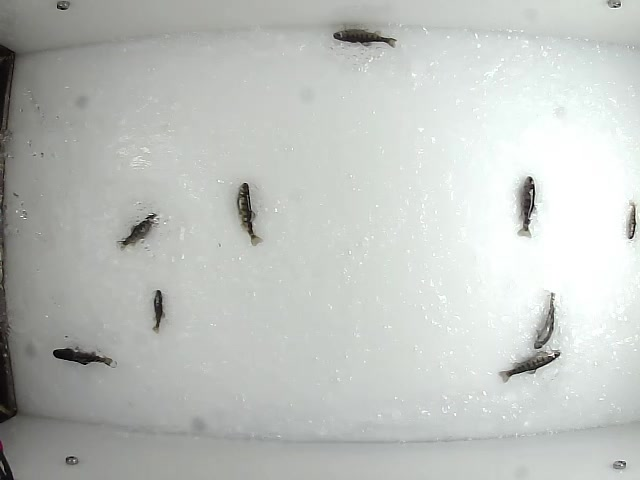fish: (496, 347, 563, 383), (236, 180, 264, 247), (114, 210, 160, 250), (531, 289, 559, 351), (331, 24, 398, 48), (516, 172, 538, 239), (50, 346, 114, 368), (148, 287, 167, 333), (625, 195, 640, 240)
